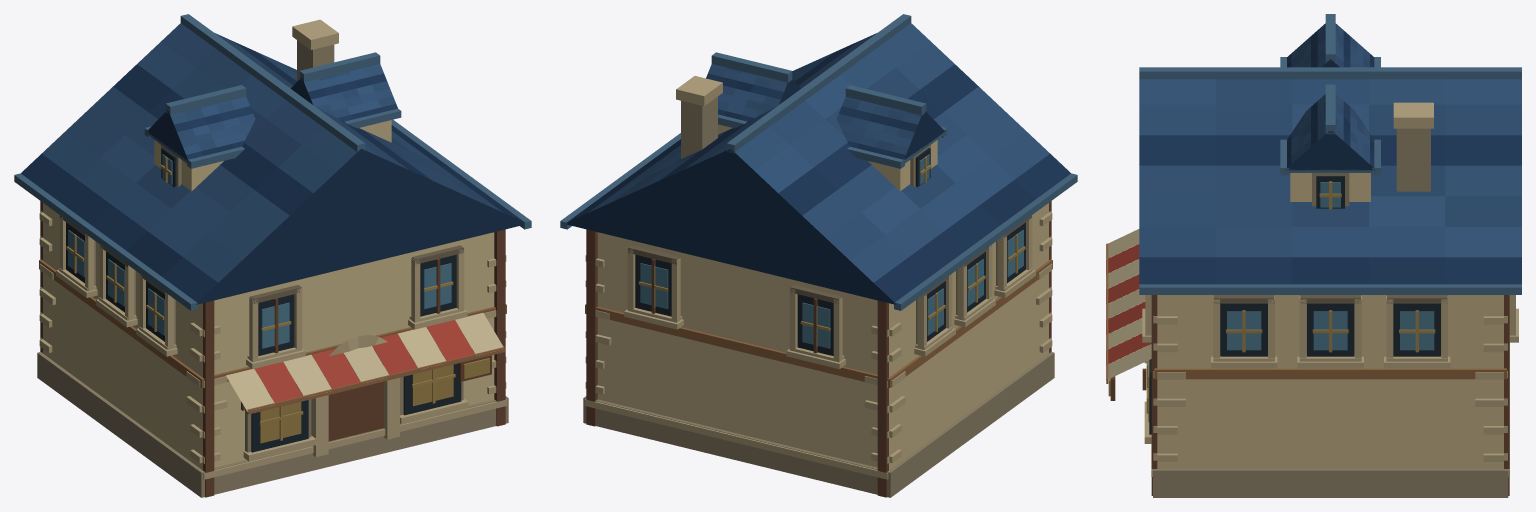
File: falan_shop.glb
3 views of the same model, side by side, from view 1: azimuth 30°, elevation 25°; view 2: azimuth 150°, elevation 25°; view 3: azimuth 270°, elevation 25° (orthographic). The views are drawn at different scales.
Parts seen in each view (by area): view 1: falan_shop; view 2: falan_shop; view 3: falan_shop.
Boxes of the visible parts, x1,y1,x2,y2 form: falan_shop: (14, 14, 531, 497); falan_shop: (560, 14, 1077, 497); falan_shop: (1106, 14, 1521, 497).
Size of the model in its own units: 14.76 by 13.36 by 14.41.
